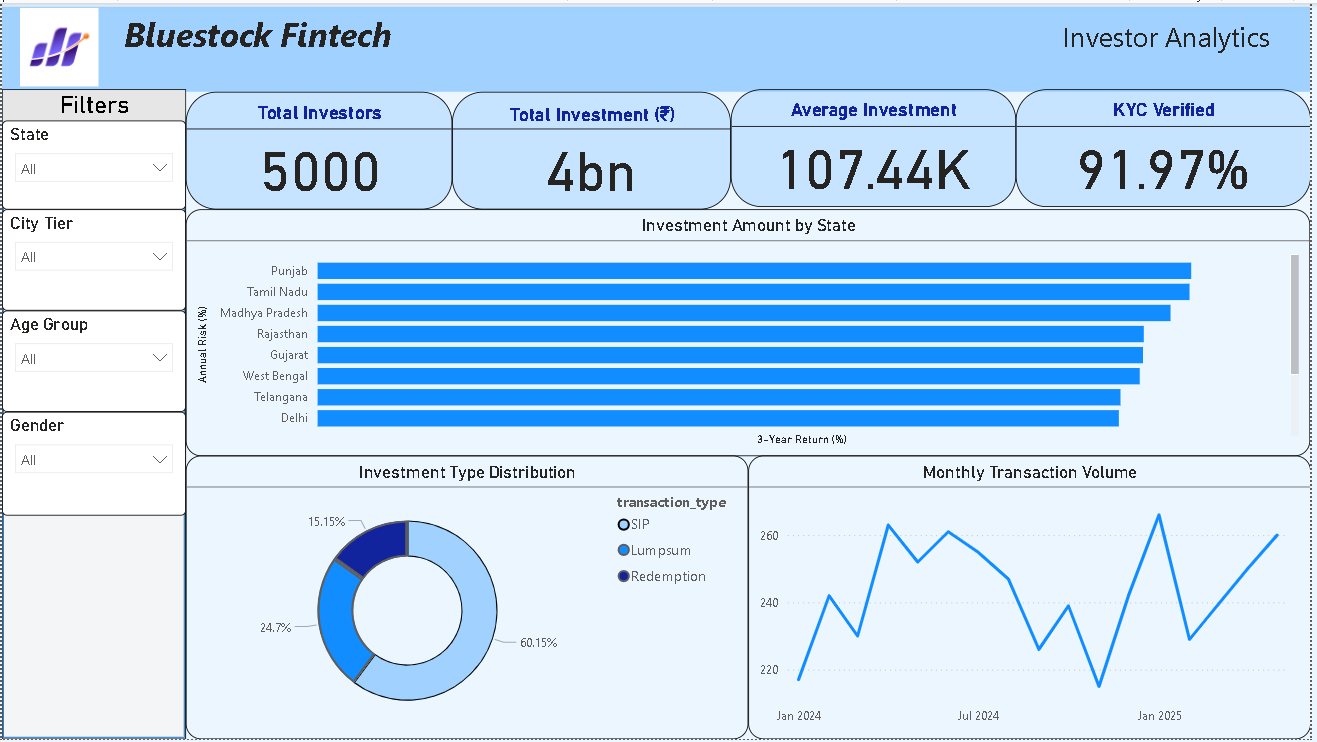

What the dashboard file says about the page in this screenshot:
{"tool":"powerbi","page":{"name":"Page 3","canvas":[1280,720],"ordinal":2},"visuals":[{"type":"textbox","box":[0,4,1280.3,83],"z":0},{"type":"image","box":[0,0,111.3,86.8],"z":1000},{"type":"shape","title":"Filters","box":[0,84.1,180,635.9],"z":2000},{"type":"card","title":"Total Investors","fields":{"Values":["Count(08_investor_transactions.investor_id)"]},"box":[179.8,86.8,260.5,114.9],"z":3000},{"type":"card","title":"Total Investment (₹)","fields":{"Values":["Sum(08_investor_transactions.amount_inr)"]},"box":[440.2,86.8,272.7,114.9],"z":4000},{"type":"card","title":"Average Investment","fields":{"Values":["Avg(08_investor_transactions.amount_inr)"]},"box":[712.9,84.4,278.8,114.9],"z":5000},{"type":"card","title":"KYC Verified","fields":{"Values":["01_fund_master.KYC Verified %"]},"box":[991.4,84.4,288.6,114.9],"z":6000},{"type":"clusteredBarChart","title":"Investment Amount by State","fields":{"Category":["08_investor_transactions.state"],"Y":["Sum(08_investor_transactions.amount_inr)"]},"box":[180,201.2,1100,241.2],"z":7000},{"type":"donutChart","title":"Investment Type Distribution","fields":{"Category":["08_investor_transactions.transaction_type"],"Y":["CountNonNull(08_investor_transactions.investor_id)"]},"box":[179.8,442.4,550.3,277.6],"z":8000},{"type":"lineChart","title":"Monthly Transaction Volume","fields":{"Category":["08_investor_transactions.transaction_date.Variation.Date Hierarchy.Year","08_investor_transactions.transaction_date.Variation.Date Hierarchy.Month"],"Y":["CountNonNull(08_investor_transactions.investor_id)"]},"box":[729.7,442.4,550.3,277.6],"z":9000},{"type":"slicer","title":"State","fields":{"Values":["08_investor_transactions.state"]},"box":[0,114.9,179.8,86.8],"z":10000},{"type":"slicer","title":"City Tier","fields":{"Values":["08_investor_transactions.city_tier"]},"box":[0,201.8,179.8,99],"z":11000},{"type":"slicer","title":"Age Group","fields":{"Values":["08_investor_transactions.age_group"]},"box":[0,300.8,179.8,99],"z":12000},{"type":"slicer","title":"Gender","fields":{"Values":["08_investor_transactions.gender"]},"box":[0,399.9,179.8,101.5],"z":13000}]}

Visuals, with their boxes in screenshot pixels (x1, y1, x2, y2), scaled from the page's 1280x720 canvas onto the 1317x742 screenshot:
textbox: l=0, t=4, r=1316, b=90
image: l=0, t=0, r=115, b=89
"Filters" shape: l=0, t=87, r=185, b=741
"Total Investors" card: l=185, t=89, r=453, b=208
"Total Investment (₹)" card: l=453, t=89, r=734, b=208
"Average Investment" card: l=734, t=87, r=1020, b=205
"KYC Verified" card: l=1020, t=87, r=1316, b=205
"Investment Amount by State" clusteredBarChart: l=185, t=207, r=1316, b=456
"Investment Type Distribution" donutChart: l=185, t=456, r=751, b=741
"Monthly Transaction Volume" lineChart: l=751, t=456, r=1316, b=741
"State" slicer: l=0, t=118, r=185, b=208
"City Tier" slicer: l=0, t=208, r=185, b=310
"Age Group" slicer: l=0, t=310, r=185, b=412
"Gender" slicer: l=0, t=412, r=185, b=517
